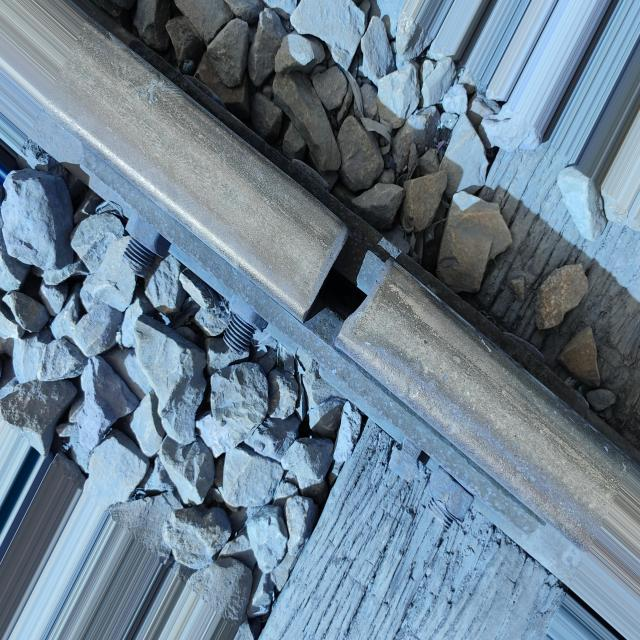crack: (298, 182, 408, 382)
